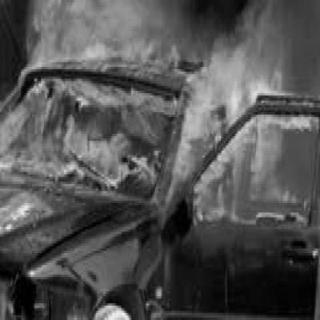Fire: (0, 0, 318, 244)
